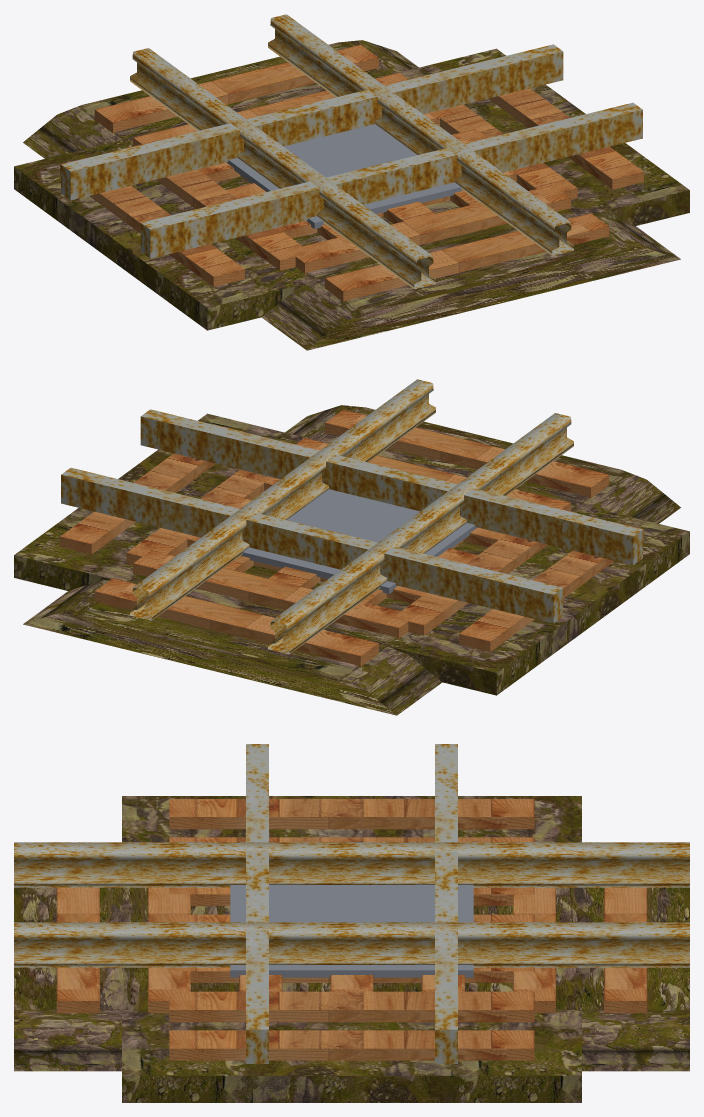
Rendered from track_cross.glb.
The picture shows the model from 3 angles, top to bottom: view 1: azimuth 30°, elevation 25°; view 2: azimuth 150°, elevation 25°; view 3: azimuth 270°, elevation 25°; orthographic projection. The views are drawn at different scales.
Parts seen in each view (by area): view 1: RootNode; view 2: RootNode; view 3: RootNode.
Boxes of the visible parts, box(x1,y1,x2,y2) form: RootNode: box(14, 14, 689, 350); RootNode: box(14, 379, 689, 715); RootNode: box(14, 744, 689, 1102).
Bounding box in the file's own units: 1 × 0.124 × 1.
Materials: 4 (3 with a texture image).
